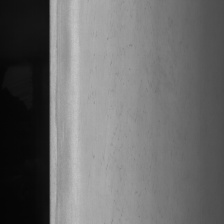silk_spot: (85, 17, 152, 162)
